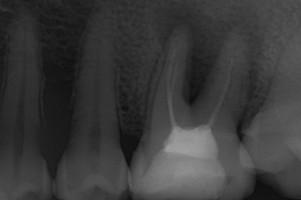Dental Caries: (154, 6, 264, 106)
